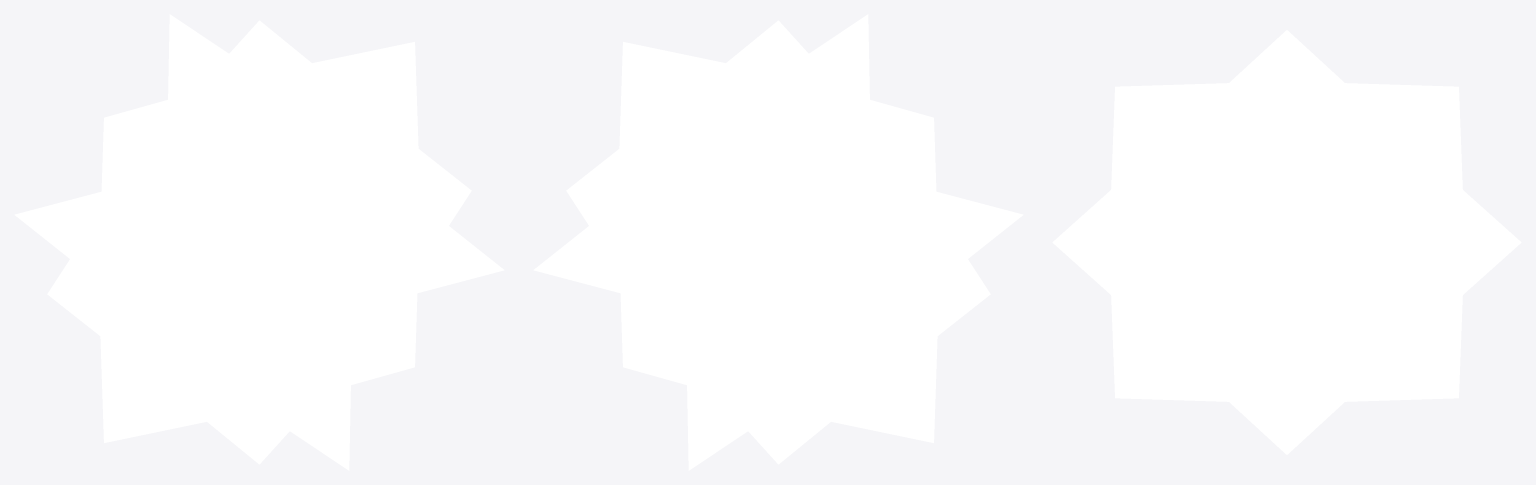
File: blaster8.glb
The picture shows the model from 3 angles, left to right: view 1: azimuth 30°, elevation 25°; view 2: azimuth 150°, elevation 25°; view 3: azimuth 270°, elevation 25°; orthographic projection. The views are drawn at different scales.
Visible parts, largest first — view 1: group_13; view 2: group_13; view 3: group_13.
Part boxes in pixels (box(x1,y1,x2,y2)): group_13: box(14, 14, 504, 470); group_13: box(533, 14, 1023, 470); group_13: box(1052, 30, 1521, 454).
Size of the model in its own units: 598 by 598 by 598.
1 material, 1 textured.
